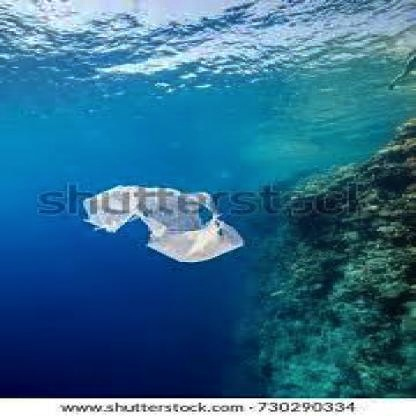pbag: (81, 184, 245, 264)
